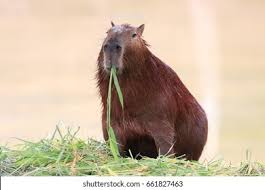capivara: (96, 20, 209, 163)
